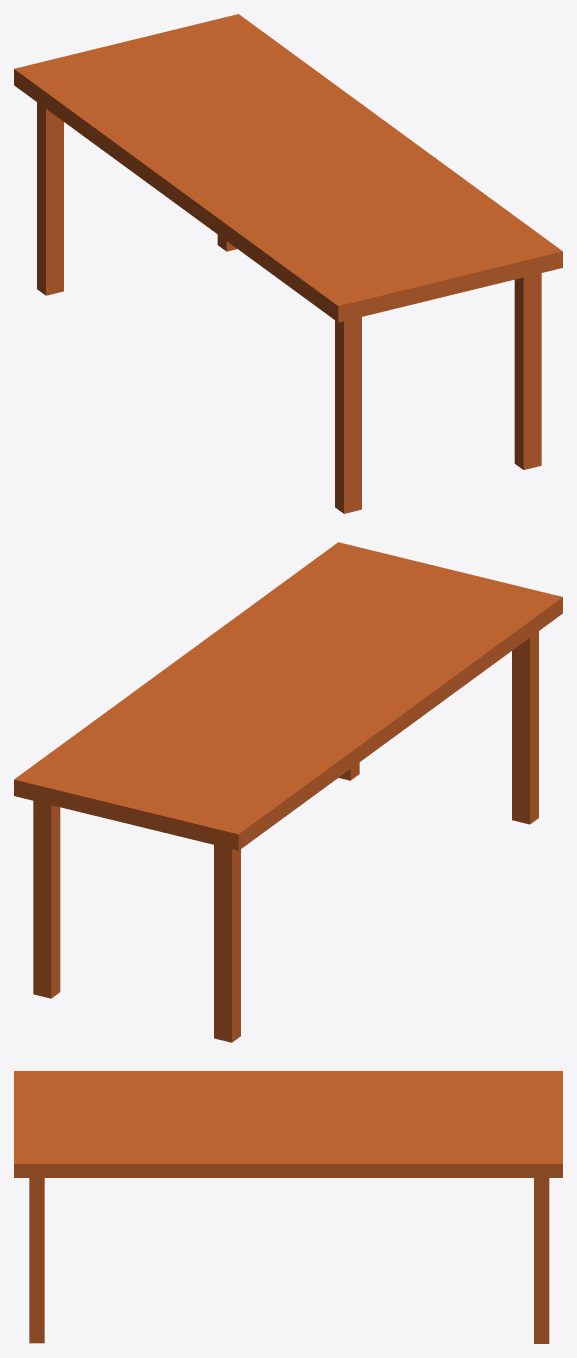
Rendered from table-blender.fbx.
The picture shows the model from 3 angles, top to bottom: view 1: azimuth 30°, elevation 25°; view 2: azimuth 150°, elevation 25°; view 3: azimuth 270°, elevation 25°; orthographic projection. The views are drawn at different scales.
Visible parts, largest first — view 1: Cube; view 2: Cube; view 3: Cube.
Part boxes in pixels (x1,y1,x2,y2): Cube: (14,14,562,513); Cube: (14,542,562,1042); Cube: (14,1071,562,1343).
Size of the model in its own units: 200 by 185 by 500.
